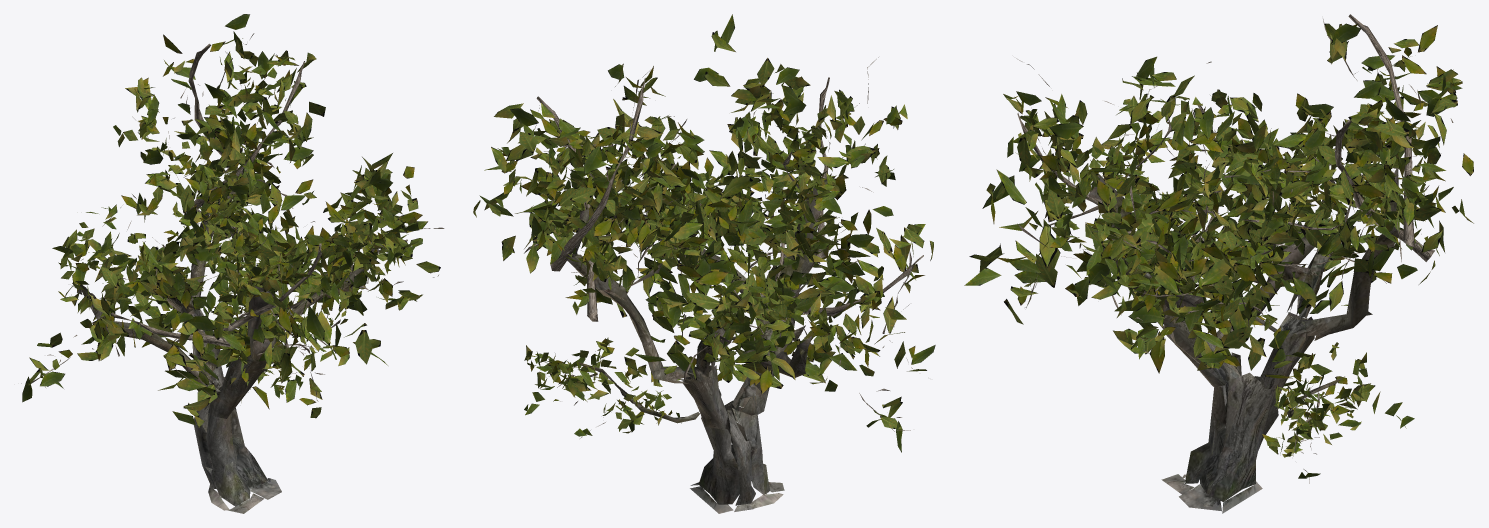
The model's file is tree_round_far.glb.
The picture shows the model from 3 angles, left to right: view 1: azimuth 30°, elevation 25°; view 2: azimuth 150°, elevation 25°; view 3: azimuth 270°, elevation 25°; orthographic projection. The views are drawn at different scales.
Visible parts, largest first — view 1: tree_round; view 2: tree_round; view 3: tree_round.
Part boxes in pixels (x1=…): tree_round: x1=21, y1=14, x2=444, y2=513; tree_round: x1=473, y1=14, x2=935, y2=513; tree_round: x1=964, y1=14, x2=1473, y2=513.
Size of the model in its own units: 4.03 by 4.11 by 3.81.
3 materials, 3 textured.
